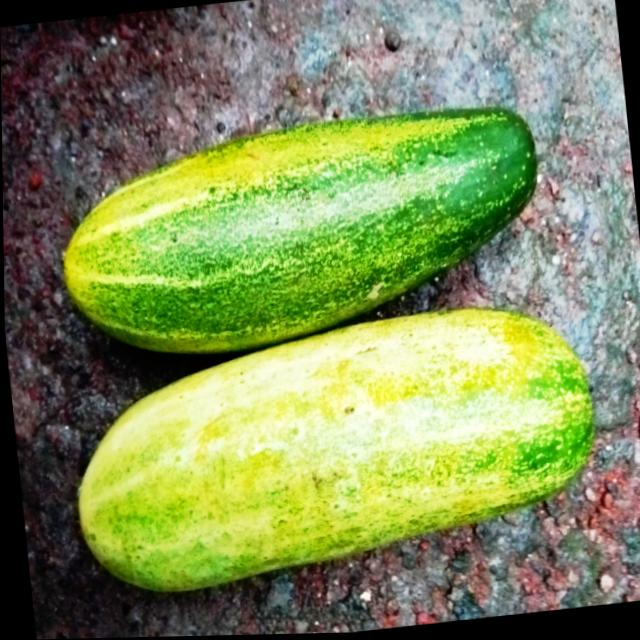Fresh-Cucumber: (62, 301, 605, 600), (45, 97, 551, 367)
